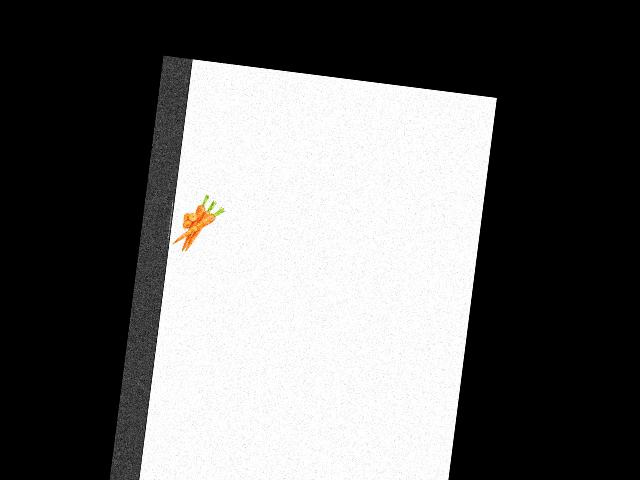carrot: (183, 199, 212, 256)
